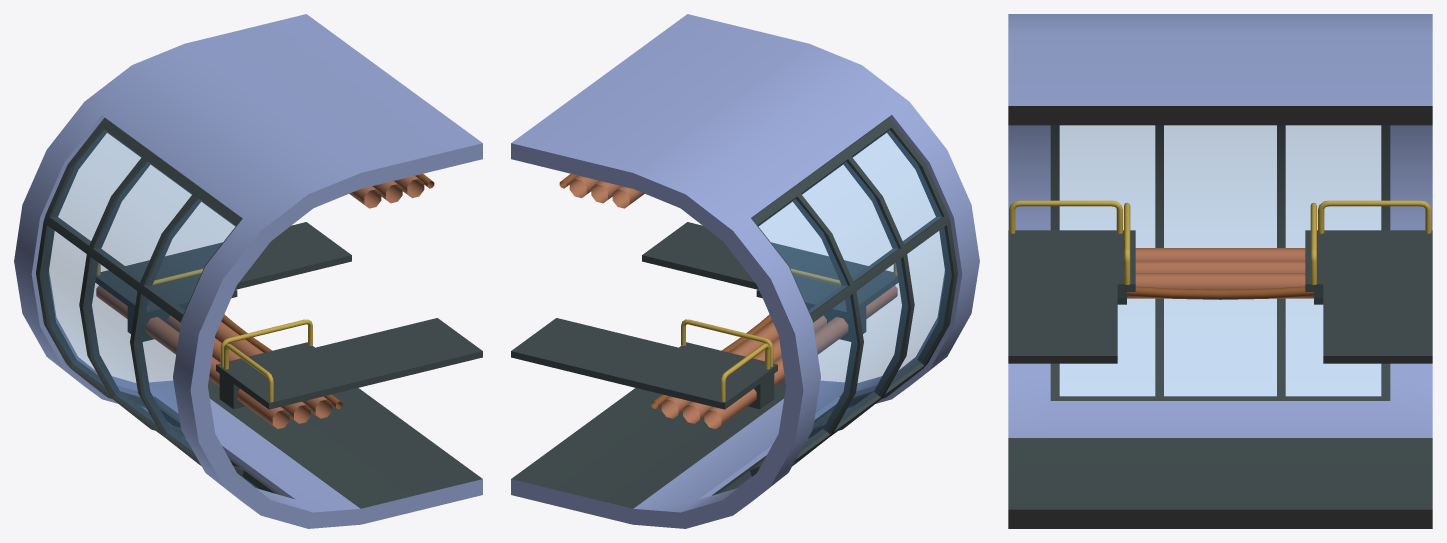
File: Block_mid_02.fbx
The picture shows the model from 3 angles, left to right: view 1: azimuth 30°, elevation 25°; view 2: azimuth 150°, elevation 25°; view 3: azimuth 270°, elevation 25°; orthographic projection. The views are drawn at different scales.
Visible parts, largest first — view 1: Block_mid_01; view 2: Block_mid_01; view 3: Block_mid_01.
Boxes of the visible parts, x1,y1,x2,y2 form: Block_mid_01: (14, 14, 482, 528); Block_mid_01: (511, 14, 979, 528); Block_mid_01: (1008, 14, 1432, 528).
Size of the model in its own units: 9.57 by 11 by 10.
